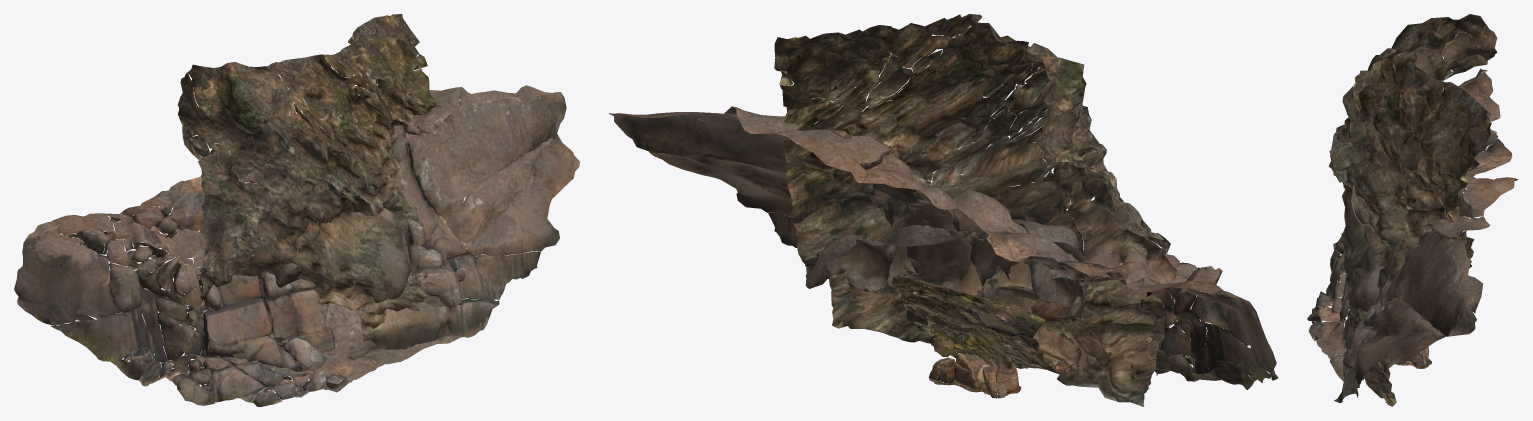
File: rocas.glb
3 views of the same model, side by side, from view 1: azimuth 30°, elevation 25°; view 2: azimuth 150°, elevation 25°; view 3: azimuth 270°, elevation 25° (orthographic). The views are drawn at different scales.
Visible parts, largest first — view 1: RK_namaqualand_cliff_02, RK_mountainside, RK_namaqualand_cliff_01; view 2: RK_mountainside, RK_namaqualand_cliff_02, RK_namaqualand_cliff_01, RK_rock_face_01, RK_namaqualand_boulder_02, RK_rock_face_02; view 3: RK_mountainside, RK_namaqualand_cliff_02, RK_namaqualand_cliff_01, RK_namaqualand_boulder_02.
Boxes of the visible parts, bbox=[...] form: RK_namaqualand_cliff_02: bbox=[14, 85, 579, 406]; RK_mountainside: bbox=[177, 14, 456, 382]; RK_namaqualand_cliff_01: bbox=[221, 234, 448, 381]; RK_mountainside: bbox=[774, 14, 1170, 406]; RK_namaqualand_cliff_02: bbox=[608, 106, 1278, 389]; RK_namaqualand_cliff_01: bbox=[805, 219, 1149, 388]; RK_rock_face_01: bbox=[891, 275, 1073, 374]; RK_namaqualand_boulder_02: bbox=[928, 353, 1021, 398]; RK_rock_face_02: bbox=[926, 313, 1011, 371]; RK_mountainside: bbox=[1329, 14, 1497, 406]; RK_namaqualand_cliff_02: bbox=[1307, 68, 1518, 403]; RK_namaqualand_cliff_01: bbox=[1342, 240, 1482, 397]; RK_namaqualand_boulder_02: bbox=[1395, 347, 1431, 368].
Bounding box in the file's own units: 20.18 × 10.52 × 6.61.
10 materials, 10 textured.
